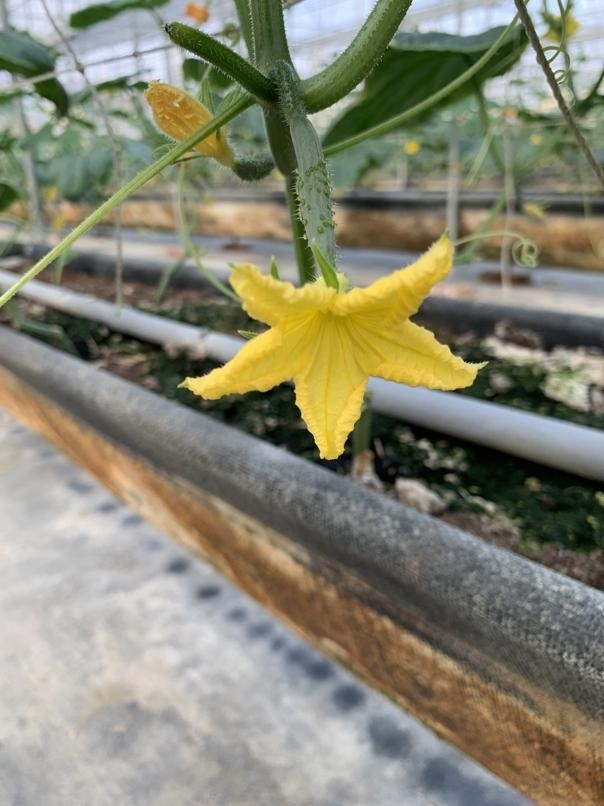flowering: (178, 95, 487, 466)
